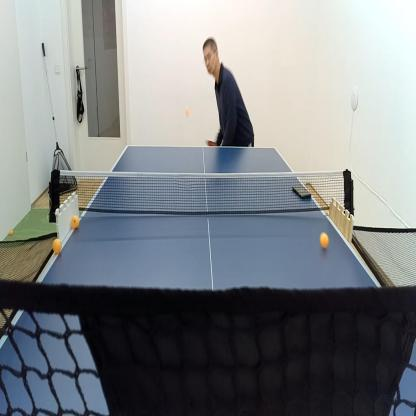Ball: (319, 231, 330, 250), (52, 236, 62, 255), (70, 213, 80, 230), (185, 107, 190, 118), (9, 227, 13, 236)
